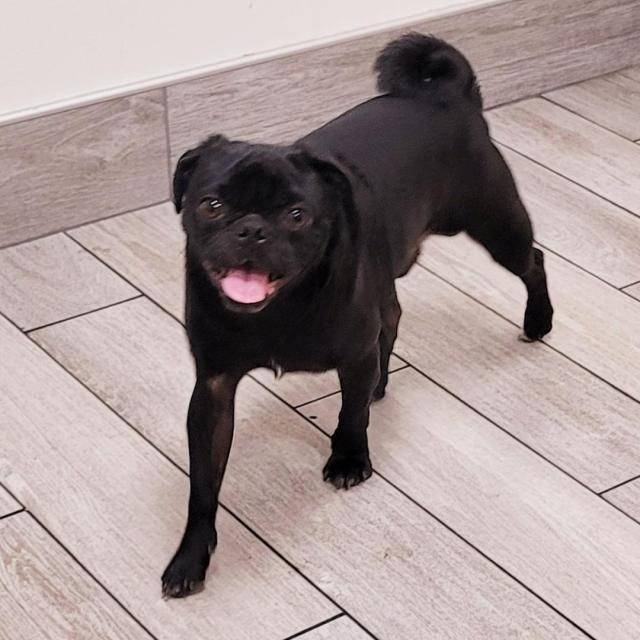pug_dog: (156, 124, 374, 333)
